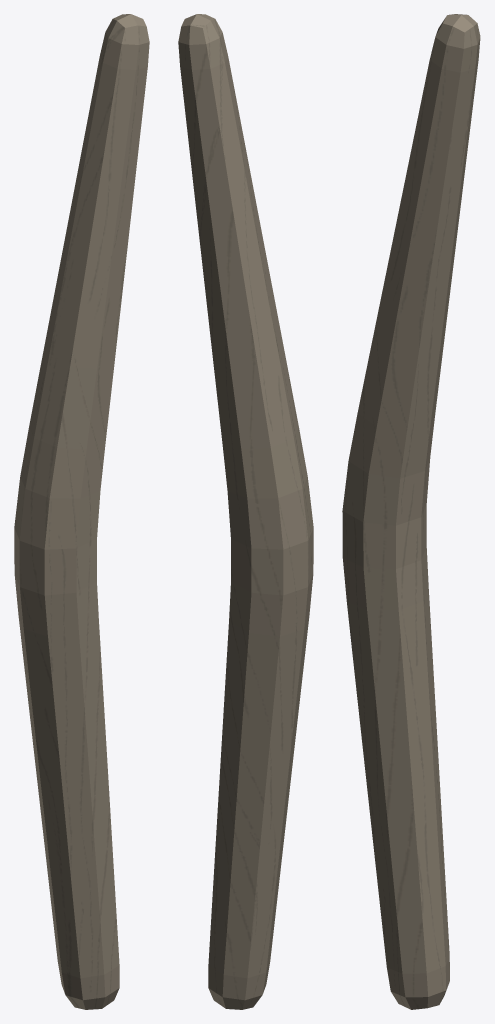
Rendered from Palo4.fbx.
3 renders of one model, left to right at view 1: azimuth 30°, elevation 25°; view 2: azimuth 150°, elevation 25°; view 3: azimuth 330°, elevation 25°, orthographic.
Parts seen in each view (by area): view 1: Vert.020; view 2: Vert.020; view 3: Vert.020.
Boxes of the visible parts, x1=… form: Vert.020: x1=14, y1=14, x2=149, y2=1009; Vert.020: x1=178, y1=14, x2=313, y2=1009; Vert.020: x1=342, y1=14, x2=480, y2=1009.
Bounding box in the file's own units: 67.39 × 498 × 38.29.
